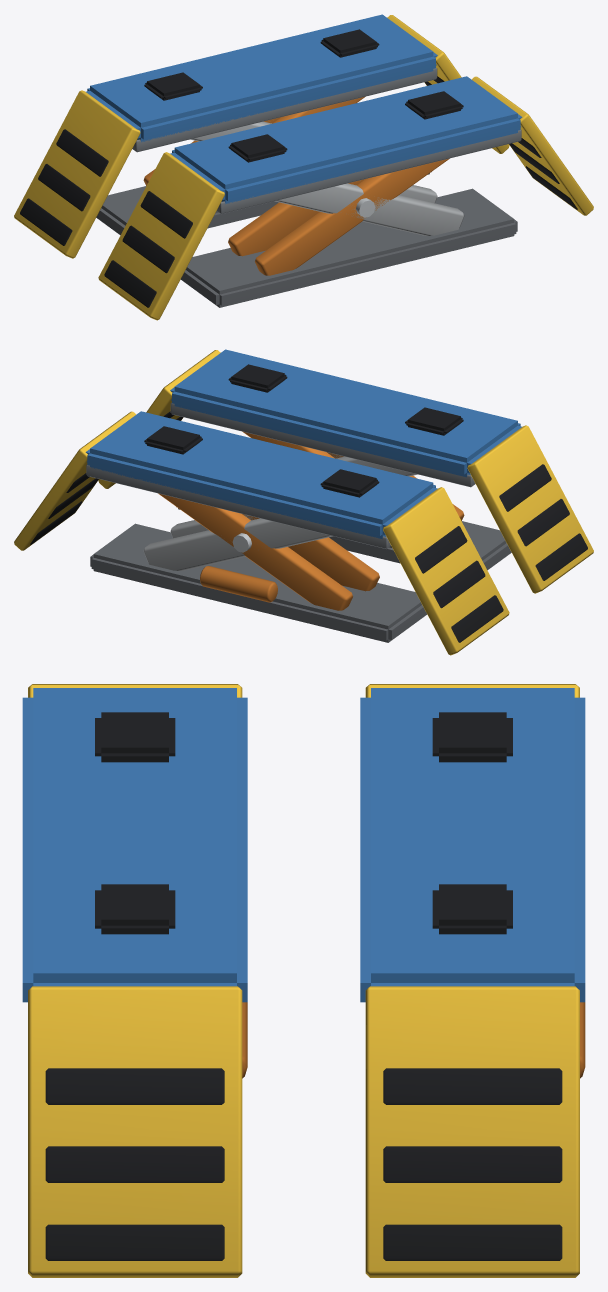
The model's file is SM_CarLift_Scissor_01.glb.
The picture shows the model from 3 angles, top to bottom: view 1: azimuth 30°, elevation 25°; view 2: azimuth 150°, elevation 25°; view 3: azimuth 270°, elevation 25°; orthographic projection. The views are drawn at different scales.
Parts seen in each view (by area): view 1: SM_CarLift_Scissor_01; view 2: SM_CarLift_Scissor_01; view 3: SM_CarLift_Scissor_01.
Boxes of the visible parts, left/top/right/bottom form: SM_CarLift_Scissor_01: left=14, top=14, right=593, bottom=320; SM_CarLift_Scissor_01: left=14, top=349, right=593, bottom=655; SM_CarLift_Scissor_01: left=22, top=684, right=585, bottom=1277.
Bounding box in the file's own units: 1.91 × 0.55 × 1.05.
1 material, 1 textured.
